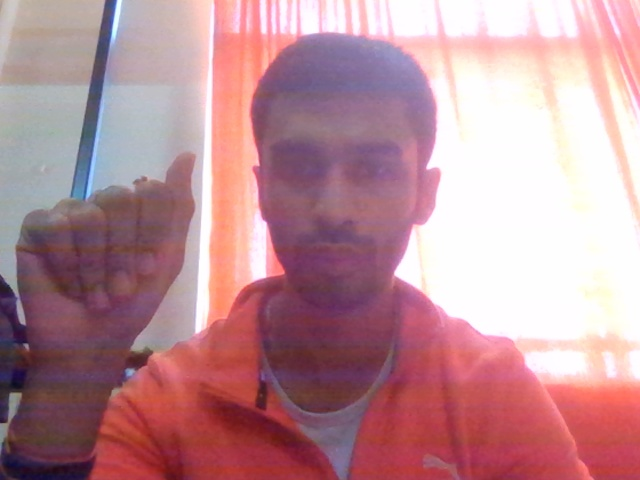A: (8, 155, 225, 381)
